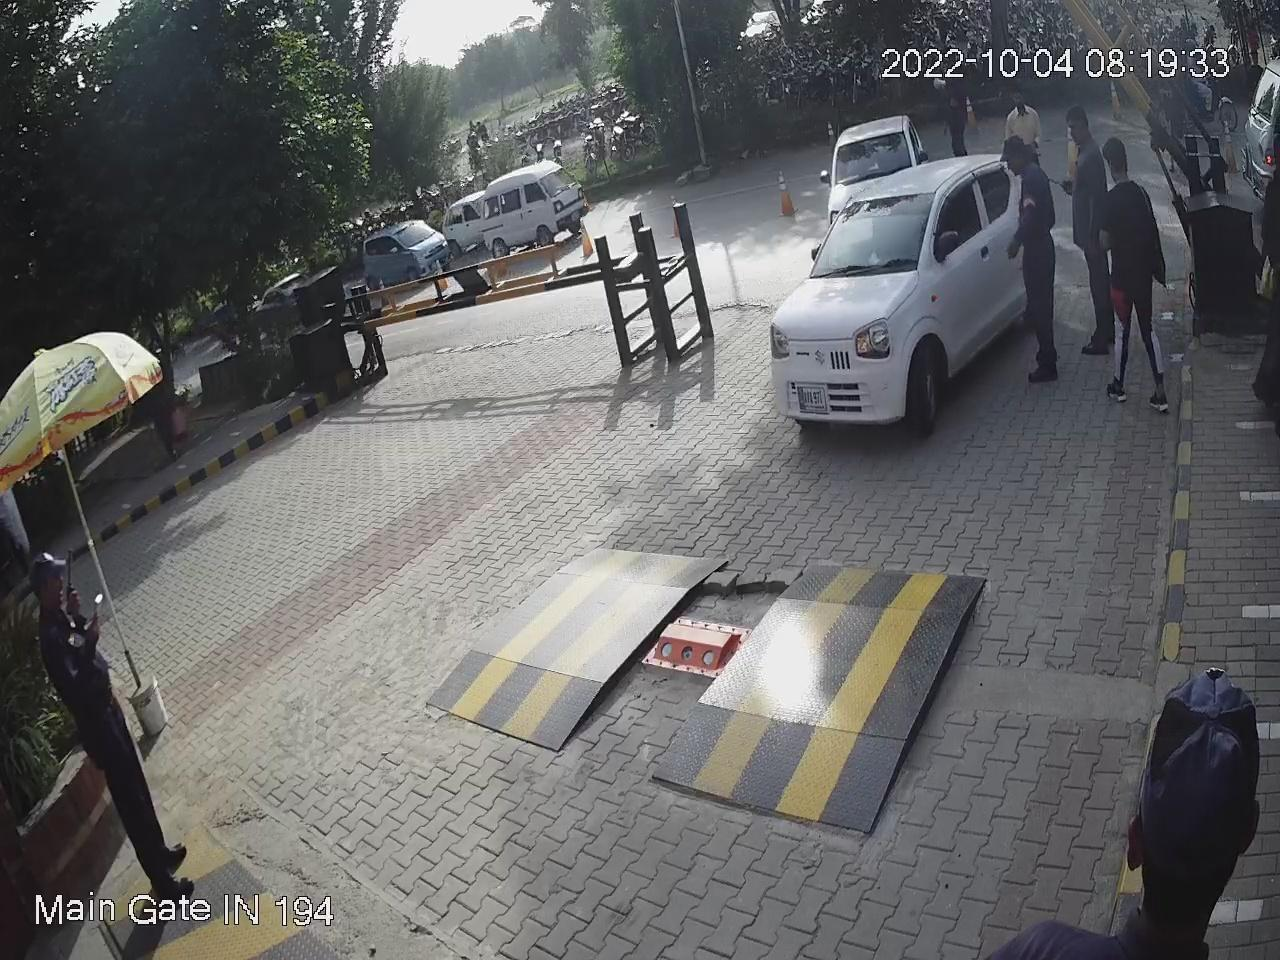windshield: (798, 190, 935, 282)
